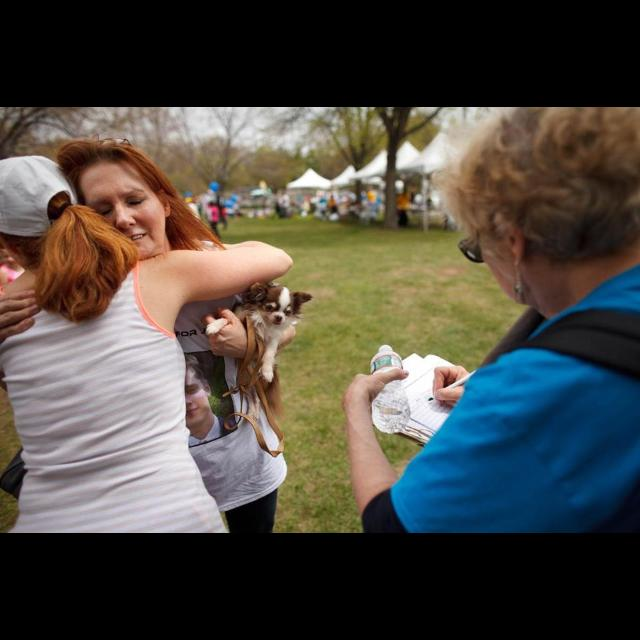head: (60, 142, 174, 266), (70, 140, 174, 264)
